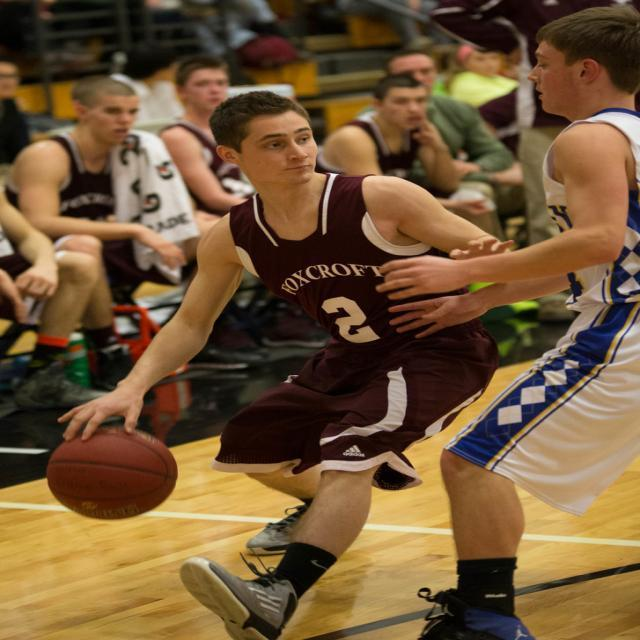ball: (45, 422, 179, 522)
